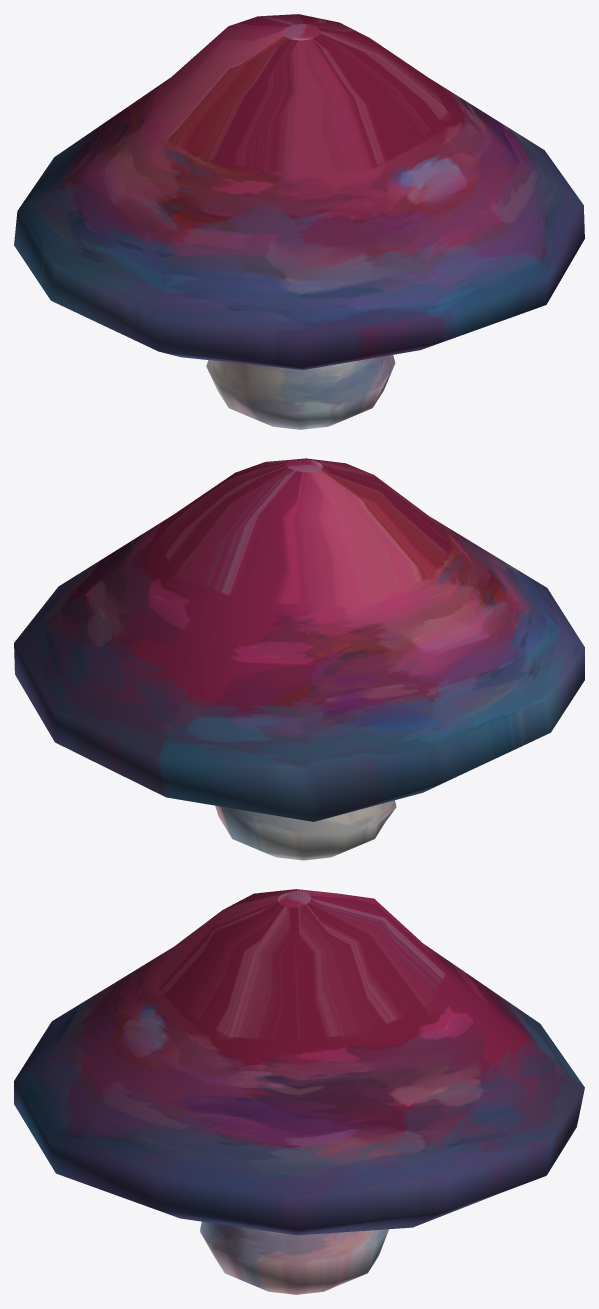
Rendered from Kinoko.obj.
3 views of the same model, one above another, from view 1: azimuth 30°, elevation 25°; view 2: azimuth 150°, elevation 25°; view 3: azimuth 270°, elevation 25° (orthographic).
Parts seen in each view (by area): view 1: Kinoko; view 2: Kinoko; view 3: Kinoko.
Part boxes in pixels (box(x1,y1,x2,y2)): Kinoko: box(14, 14, 584, 429); Kinoko: box(14, 458, 584, 860); Kinoko: box(14, 889, 584, 1294).
Size of the model in its own units: 7.87 by 5.7 by 7.9.
1 material, 1 textured.
